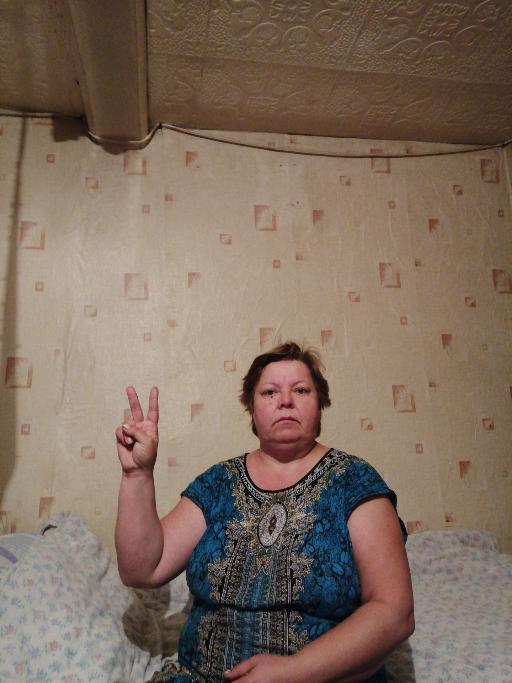peace: (111, 383, 166, 475)
